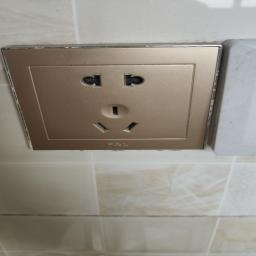outlet: (0, 38, 218, 160)
